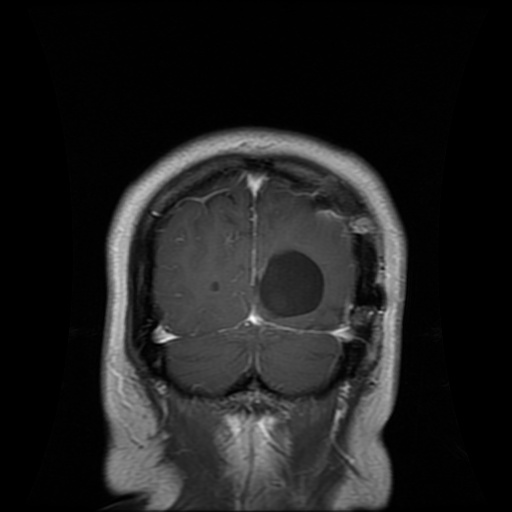glioma: (260, 252, 326, 316)
